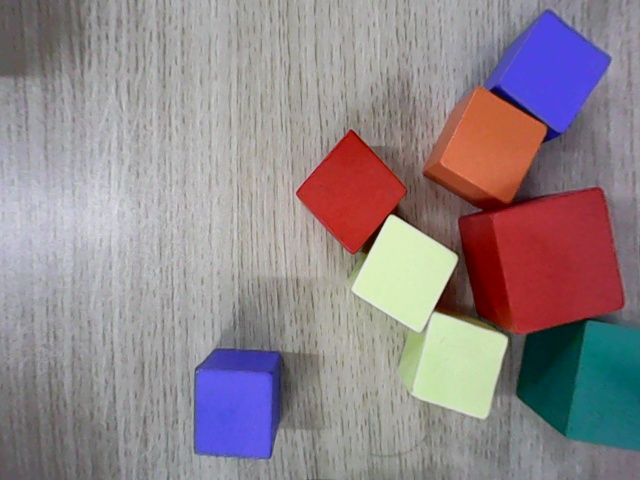upside of big cube: (490, 186, 623, 335), (564, 319, 639, 452)
upside of small cube: (497, 9, 612, 134), (297, 131, 409, 254), (352, 214, 462, 335), (438, 86, 548, 204), (411, 311, 510, 421), (193, 370, 270, 457)
